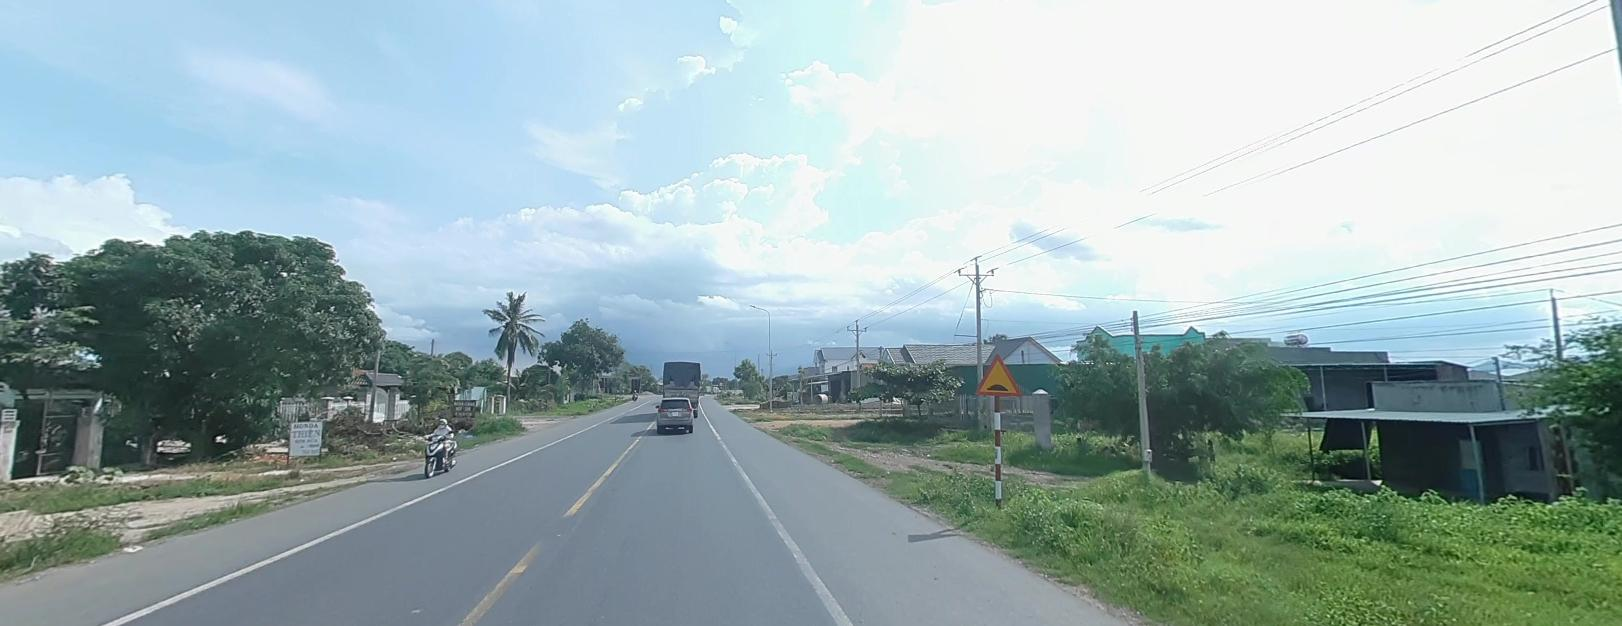Nguy hiem: (971, 350, 1023, 396)
